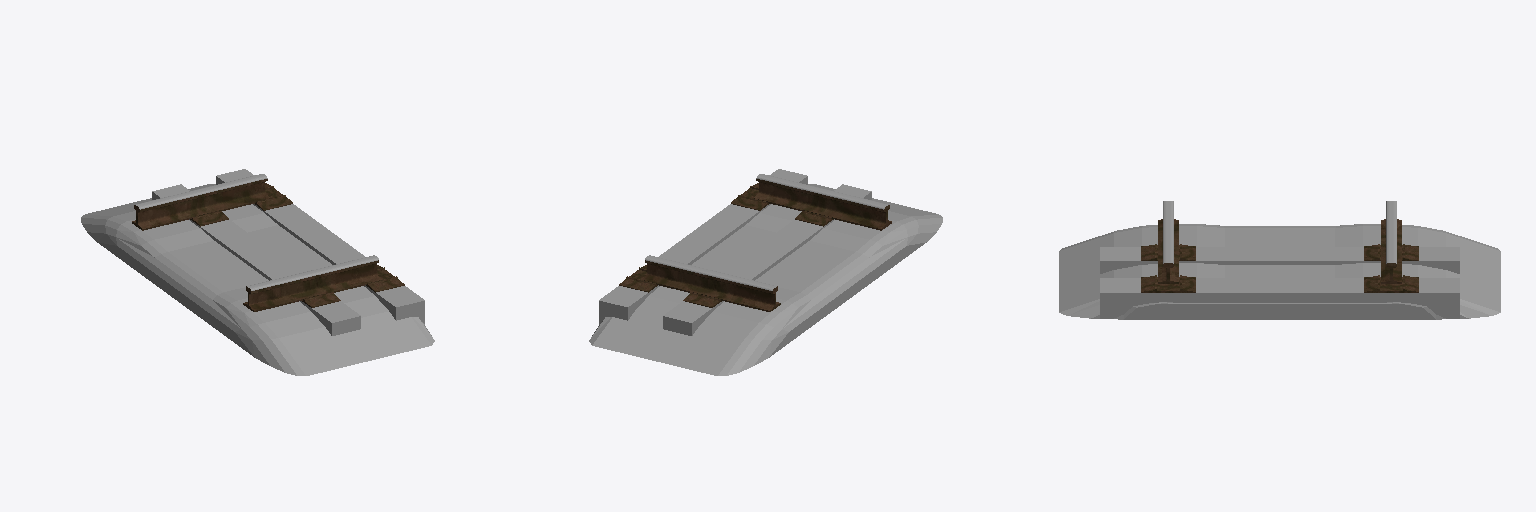
The picture shows the model from 3 angles: view 1: azimuth 30°, elevation 25°; view 2: azimuth 150°, elevation 25°; view 3: azimuth 270°, elevation 25°; orthographic projection.
Visible parts, largest first — view 1: RAIL_BASE.001_Plane.005, RAIL_BASE_Plane.003, RAIL_RIGHT_Cube.000, RAIL_LEFT_Cube.001, RAIL_BASE.002_Plane.002; view 2: RAIL_BASE.001_Plane.005, RAIL_BASE_Plane.003, RAIL_LEFT_Cube.001, RAIL_RIGHT_Cube.000, RAIL_BASE.002_Plane.002; view 3: RAIL_BASE.001_Plane.005, RAIL_BASE_Plane.003, RAIL_BASE.002_Plane.002, RAIL_LEFT_Cube.001, RAIL_RIGHT_Cube.000.
Boxes of the visible parts, <box> form: RAIL_BASE.001_Plane.005: <box>81,184,434,375</box>; RAIL_BASE_Plane.003: <box>152,169,424,335</box>; RAIL_RIGHT_Cube.000: <box>132,174,269,230</box>; RAIL_LEFT_Cube.001: <box>243,255,381,311</box>; RAIL_BASE.002_Plane.002: <box>190,183,404,307</box>; RAIL_BASE.001_Plane.005: <box>589,184,942,375</box>; RAIL_BASE_Plane.003: <box>599,169,871,335</box>; RAIL_LEFT_Cube.001: <box>754,174,891,230</box>; RAIL_RIGHT_Cube.000: <box>642,255,780,311</box>; RAIL_BASE.002_Plane.002: <box>619,183,833,307</box>; RAIL_BASE.001_Plane.005: <box>1059,224,1500,319</box>; RAIL_BASE_Plane.003: <box>1100,247,1459,318</box>; RAIL_BASE.002_Plane.002: <box>1141,244,1418,292</box>; RAIL_LEFT_Cube.001: <box>1158,201,1178,283</box>; RAIL_RIGHT_Cube.000: <box>1381,201,1401,283</box>.
Size of the model in its own units: 1.25 by 0.3683 by 3.
5 materials, 1 textured.